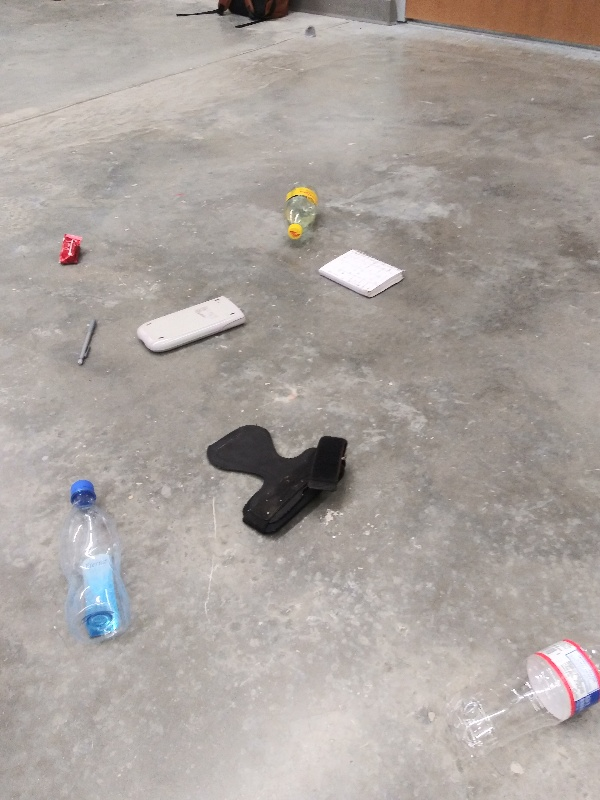bottle: (449, 633, 600, 758), (58, 479, 137, 643), (280, 179, 323, 243)
